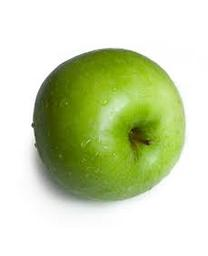apple: (31, 47, 185, 200)
